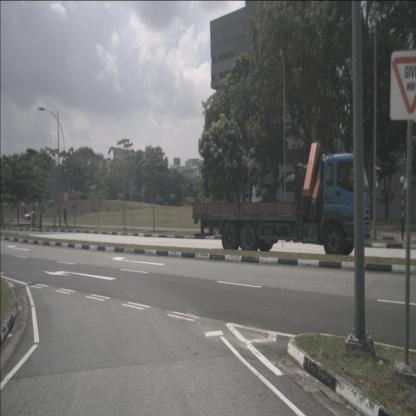human-pedestrian-adult: (63, 207, 66, 225)
vehicle-car: (23, 212, 39, 221)
vehicle-truck: (192, 153, 371, 256)
